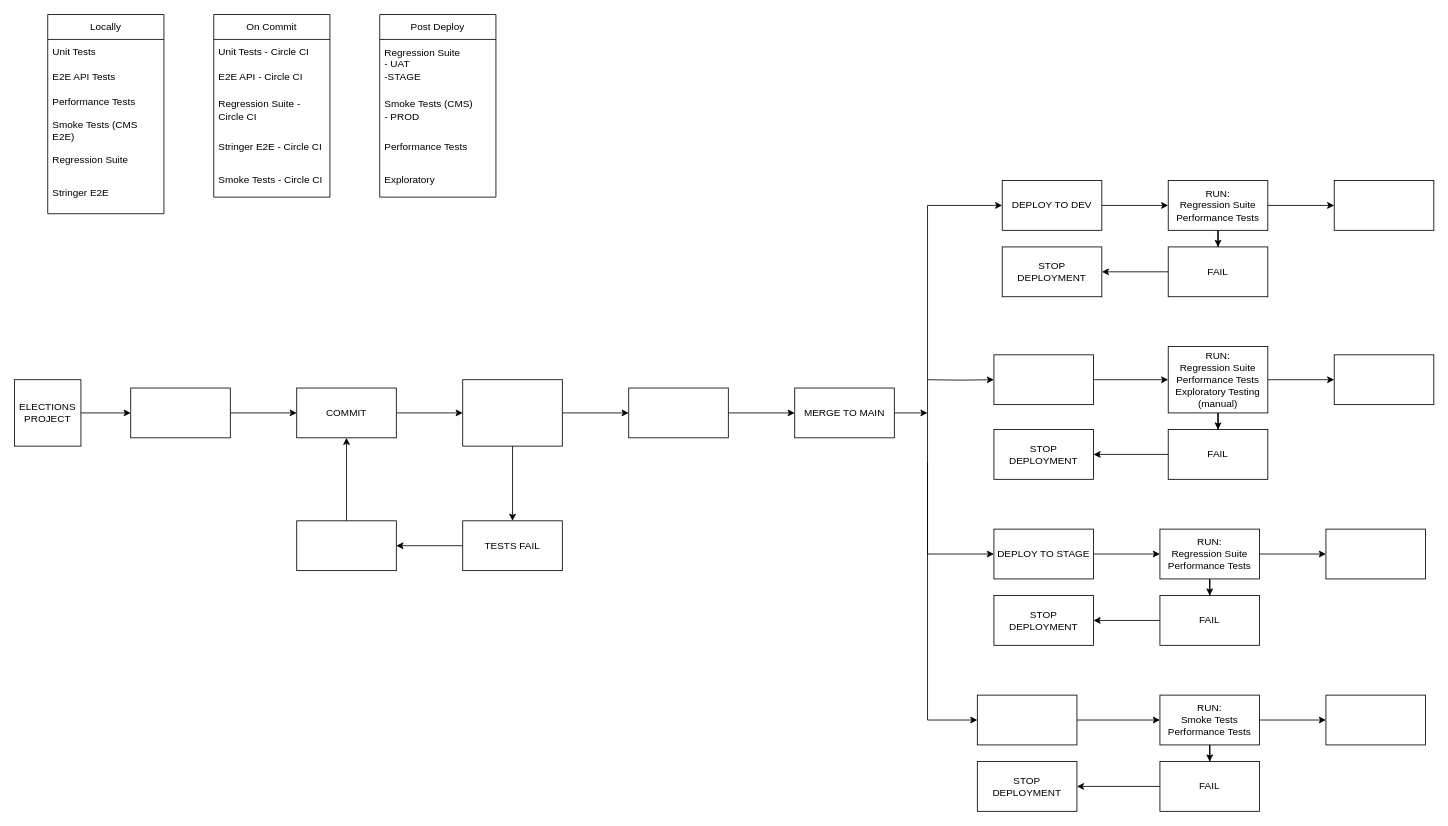
Image size: 1448x826. Some labels were removed from this diagram. Here are the shapes that lost their labels. From the top down, the centre of each, then its label:
point (1043, 379): DEPLOY TO UAT
point (180, 412): WORK COMPLETED
point (512, 412): RUN: UNIT TESTS E2E API TESTS REGRESSION TESTS STRINGER E2E TESTS
point (678, 412): TESTS PASS
point (346, 545): FIX
point (1026, 719): DEPLOY TO PROD
